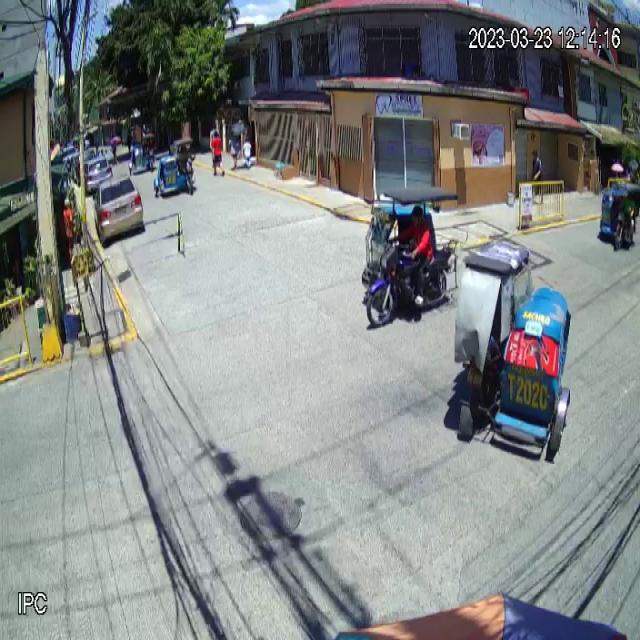Car: (92, 172, 144, 242)
Tricycle: (454, 237, 572, 459), (361, 186, 459, 329)
